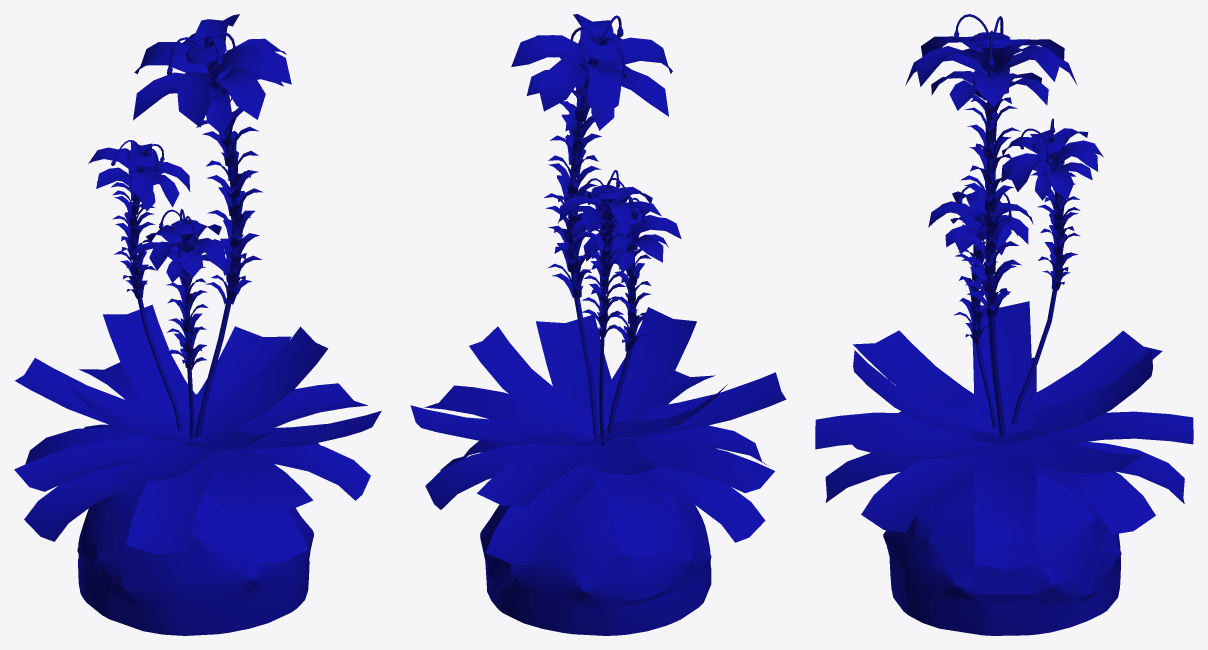
The model's file is Plant_Sketchfab.fbx.
The picture shows the model from 3 angles, left to right: view 1: azimuth 30°, elevation 25°; view 2: azimuth 150°, elevation 25°; view 3: azimuth 270°, elevation 25°; orthographic projection. The views are drawn at different scales.
Parts seen in each view (by area): view 1: Full_Plant; view 2: Full_Plant; view 3: Full_Plant.
Part boxes in pixels (x1=…): Full_Plant: x1=14, y1=14, x2=381, y2=635; Full_Plant: x1=410, y1=14, x2=786, y2=635; Full_Plant: x1=815, y1=14, x2=1193, y2=635.
Size of the model in its own units: 88.04 by 146 by 87.32.
